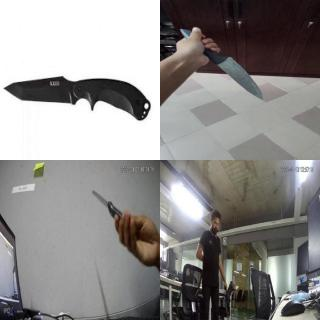knife: (5, 64, 154, 132), (214, 59, 271, 101), (86, 185, 132, 232), (226, 289, 231, 301)
